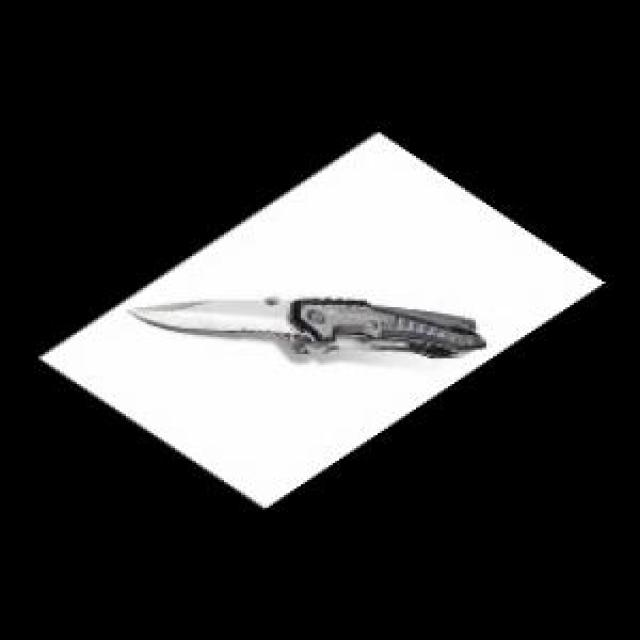knife: (132, 299, 489, 353)
